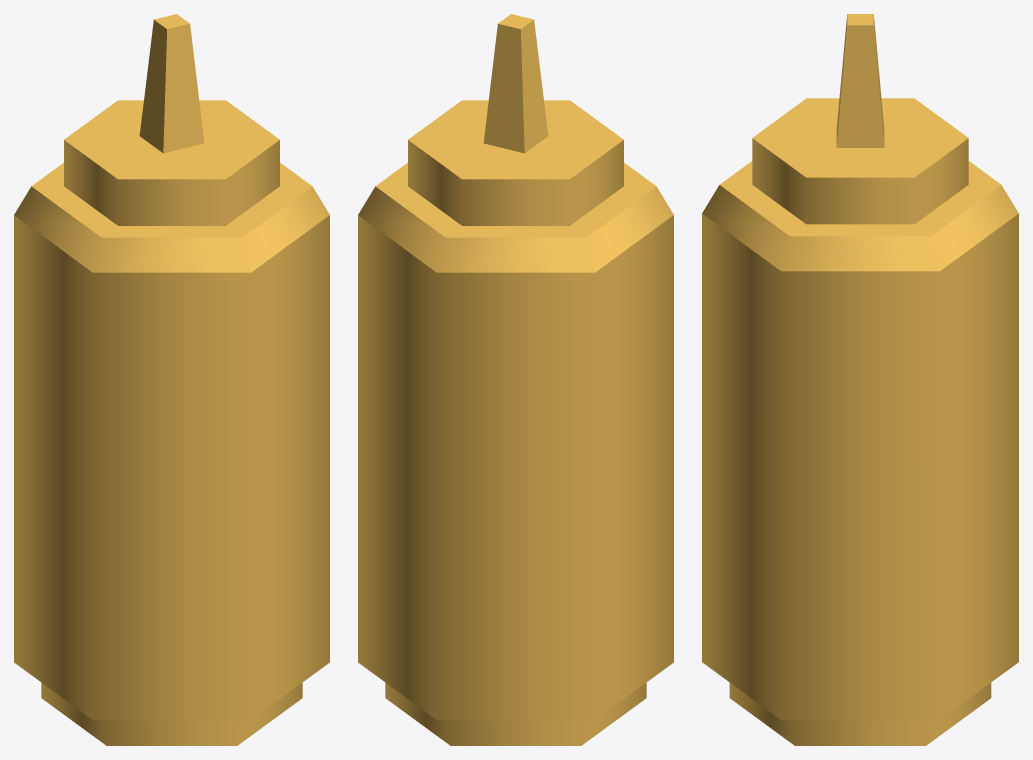
The model's file is bottleMusterd.GLB.
3 renders of one model, left to right at view 1: azimuth 30°, elevation 25°; view 2: azimuth 150°, elevation 25°; view 3: azimuth 270°, elevation 25°, orthographic.
Visible parts, largest first — view 1: bottleMusterd; view 2: bottleMusterd; view 3: bottleMusterd.
Boxes of the visible parts, <box> form: bottleMusterd: <box>14,14,329,745</box>; bottleMusterd: <box>358,14,673,745</box>; bottleMusterd: <box>702,14,1018,745</box>.
Size of the model in its own units: 0.1441 by 0.3931 by 0.1664.
